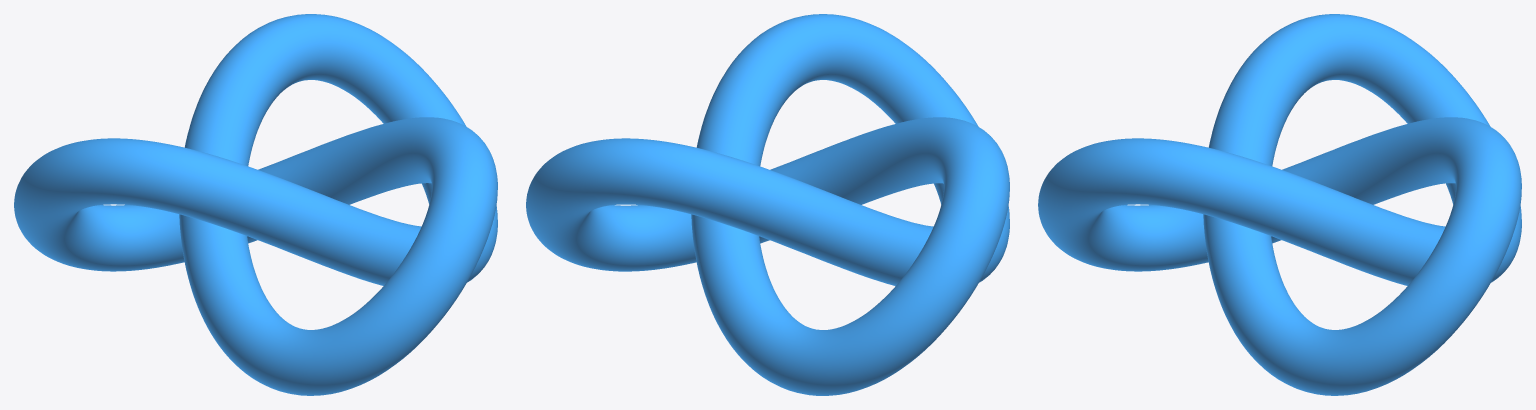
Rendered from trefoil.glb.
3 renders of one model, left to right at view 1: azimuth 30°, elevation 25°; view 2: azimuth 150°, elevation 25°; view 3: azimuth 270°, elevation 25°, orthographic.
Parts seen in each view (by area): view 1: 2e5fa768-f8a3-11f0-b404-fcb3aad56505; view 2: 2e5fa768-f8a3-11f0-b404-fcb3aad56505; view 3: 2e5fa768-f8a3-11f0-b404-fcb3aad56505.
Part boxes in pixels (bbox=[...]): 2e5fa768-f8a3-11f0-b404-fcb3aad56505: bbox=[14, 14, 497, 395]; 2e5fa768-f8a3-11f0-b404-fcb3aad56505: bbox=[526, 14, 1009, 395]; 2e5fa768-f8a3-11f0-b404-fcb3aad56505: bbox=[1038, 14, 1521, 395].
Size of the model in its own units: 6.27 by 2.8 by 5.86.
